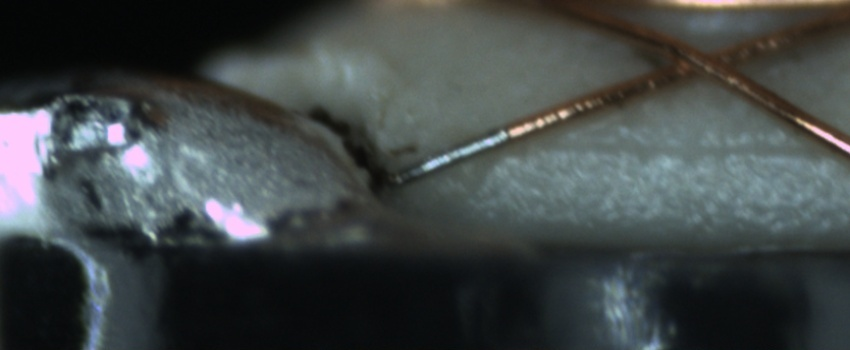CL: (635, 34, 769, 91)
DL: (523, 120, 850, 184)
TS: (382, 128, 512, 190)
